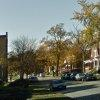Tree: (42, 26, 84, 74)
